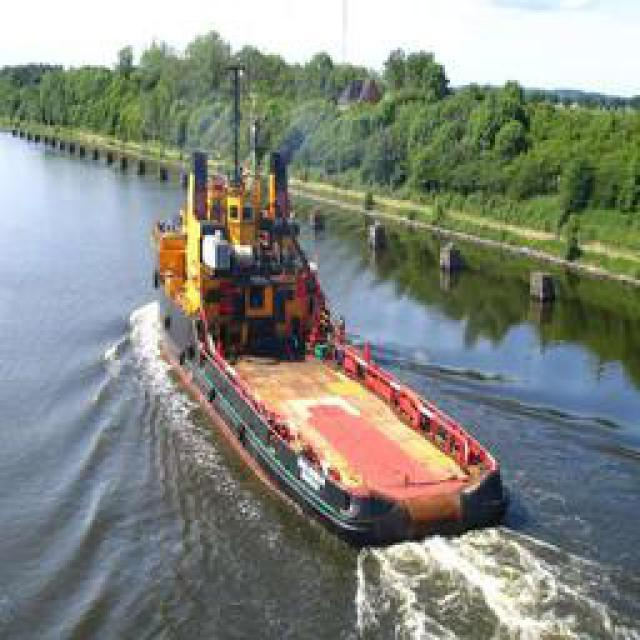Ship: (152, 157, 510, 547)
